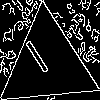I: (22, 38, 57, 83)
